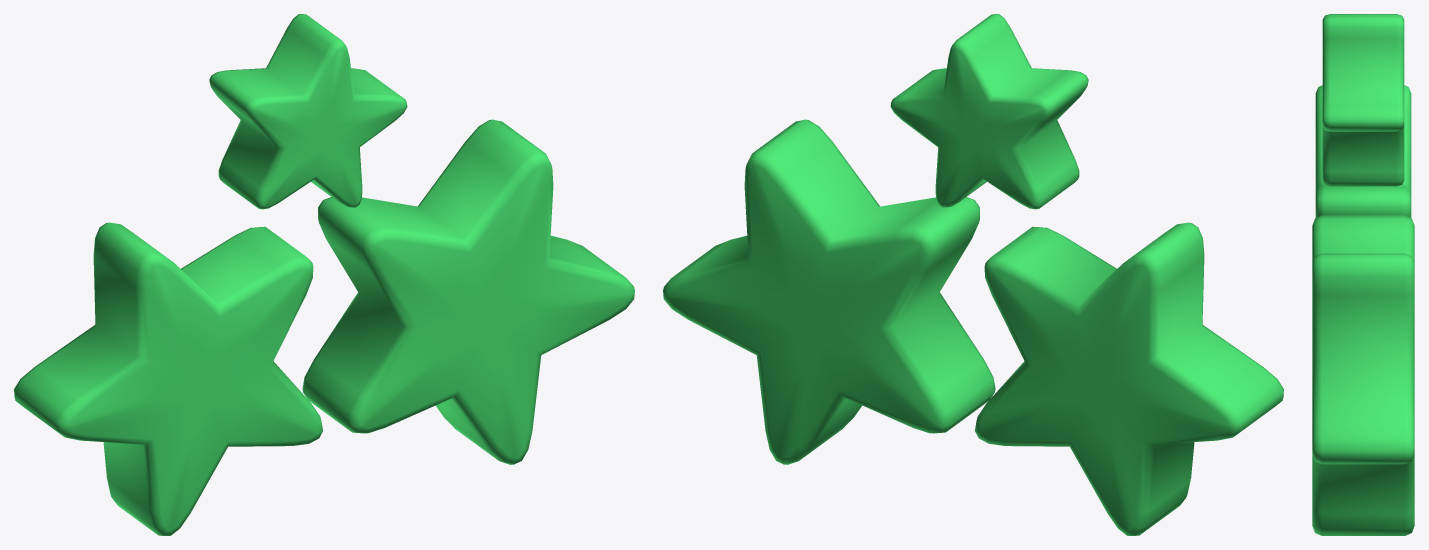
The model's file is star3.fbx.
3 renders of one model, left to right at view 1: azimuth 30°, elevation 25°; view 2: azimuth 150°, elevation 25°; view 3: azimuth 270°, elevation 25°, orthographic. The views are drawn at different scales.
Visible parts, largest first — view 1: Circle.010; view 2: Circle.010; view 3: Circle.010.
Boxes of the visible parts, x1,y1,x2,y2 form: Circle.010: [14, 14, 634, 535]; Circle.010: [663, 14, 1283, 535]; Circle.010: [1312, 14, 1414, 535].
Size of the model in its own units: 0.6939 by 0.5321 by 0.1124.
